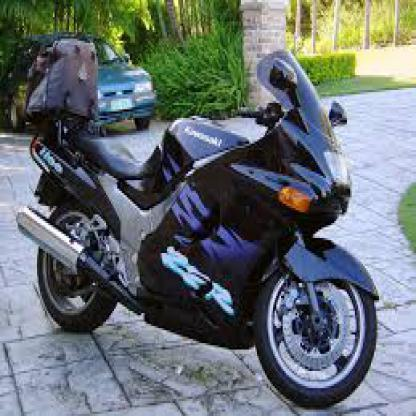Motorcycle: (28, 56, 379, 407)
